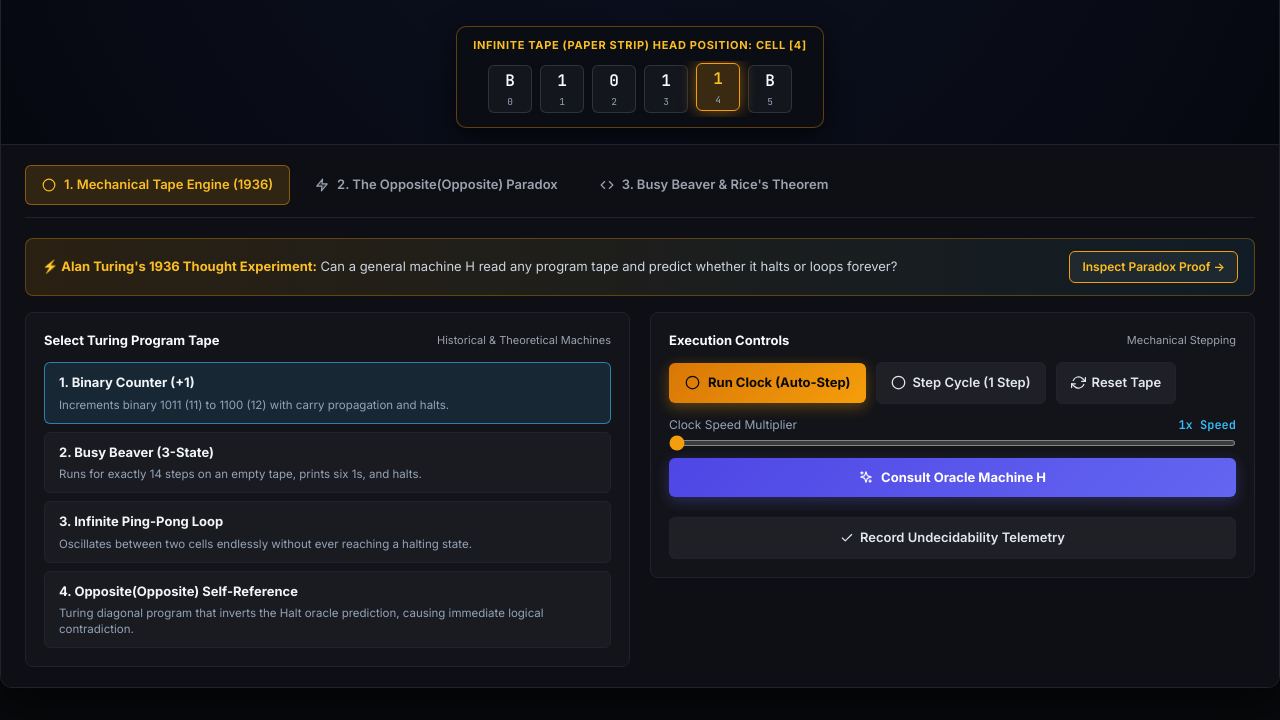
Test: HaltingProblem3DLab › records undecidability telemetry and displays confirmation
This screenshot has width=1280, height=720.
(page scrolled)
Click the button "Record Undecidability Telemetry". click: (952, 538)
box: [669, 517, 1236, 558]
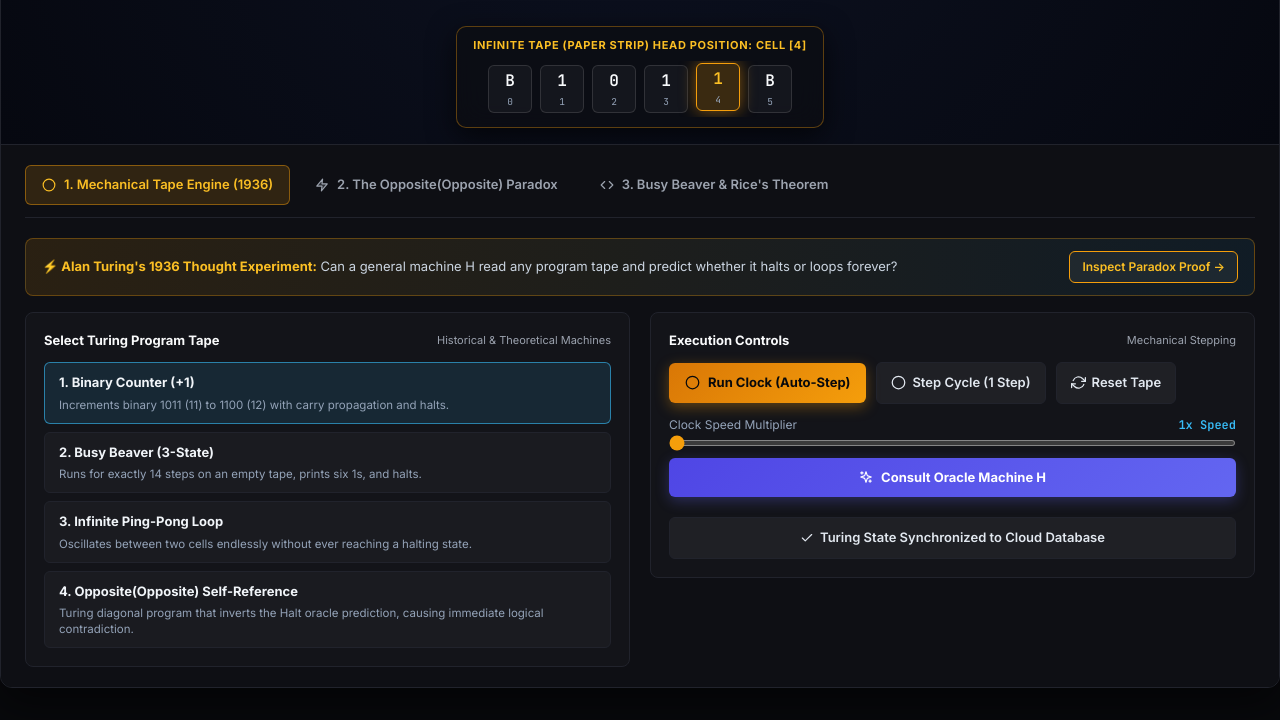
Check: the button "Turing State Synchronized to Cloud Database" is shown, box [669, 517, 1236, 558]
